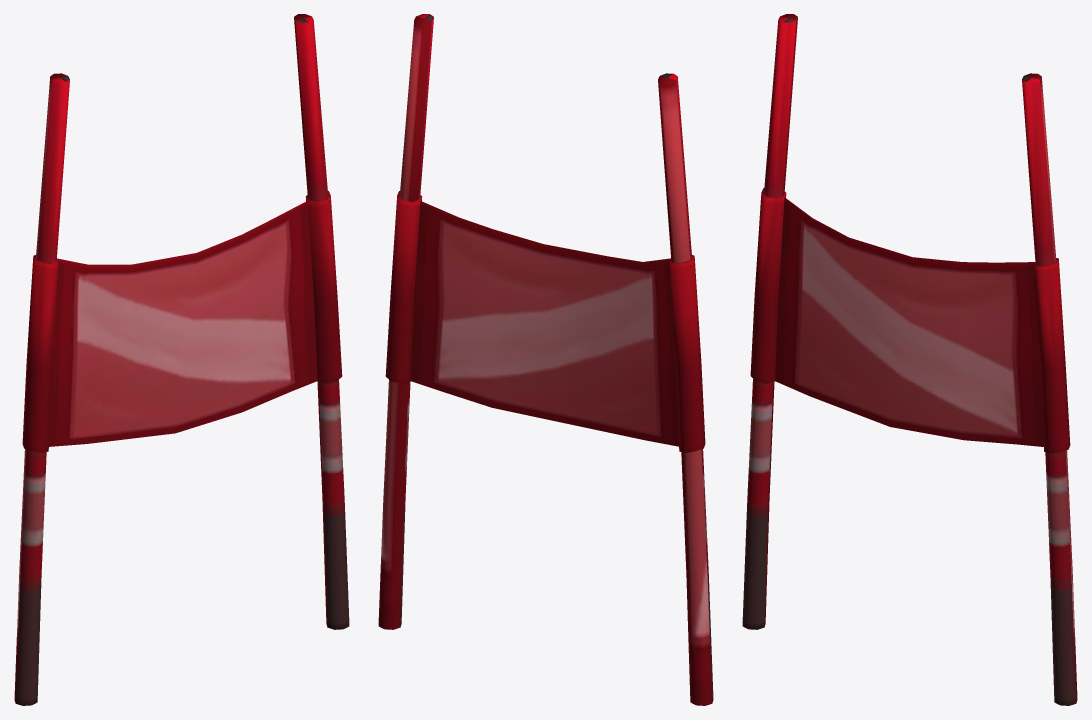
Rendered from rmk_oth_slalomgate.dae.
The picture shows the model from 3 angles, left to right: view 1: azimuth 30°, elevation 25°; view 2: azimuth 150°, elevation 25°; view 3: azimuth 330°, elevation 25°; orthographic projection.
Parts seen in each view (by area): view 1: rmk_oth_slalomgate; view 2: rmk_oth_slalomgate; view 3: rmk_oth_slalomgate.
Part boxes in pixels (box(x1,y1,x2,y2)): rmk_oth_slalomgate: box(14, 14, 349, 705); rmk_oth_slalomgate: box(378, 14, 713, 705); rmk_oth_slalomgate: box(742, 14, 1077, 705).
Size of the model in its own units: 25.76 by 45.47 by 1.89.
1 material, 1 textured.
